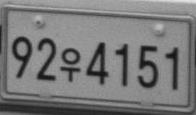1: (112, 42, 134, 87), (163, 46, 185, 90)
2: (35, 36, 56, 80)
4: (84, 41, 109, 84)
5: (137, 44, 159, 89)
9: (11, 35, 32, 78)
우: (59, 46, 81, 81)
